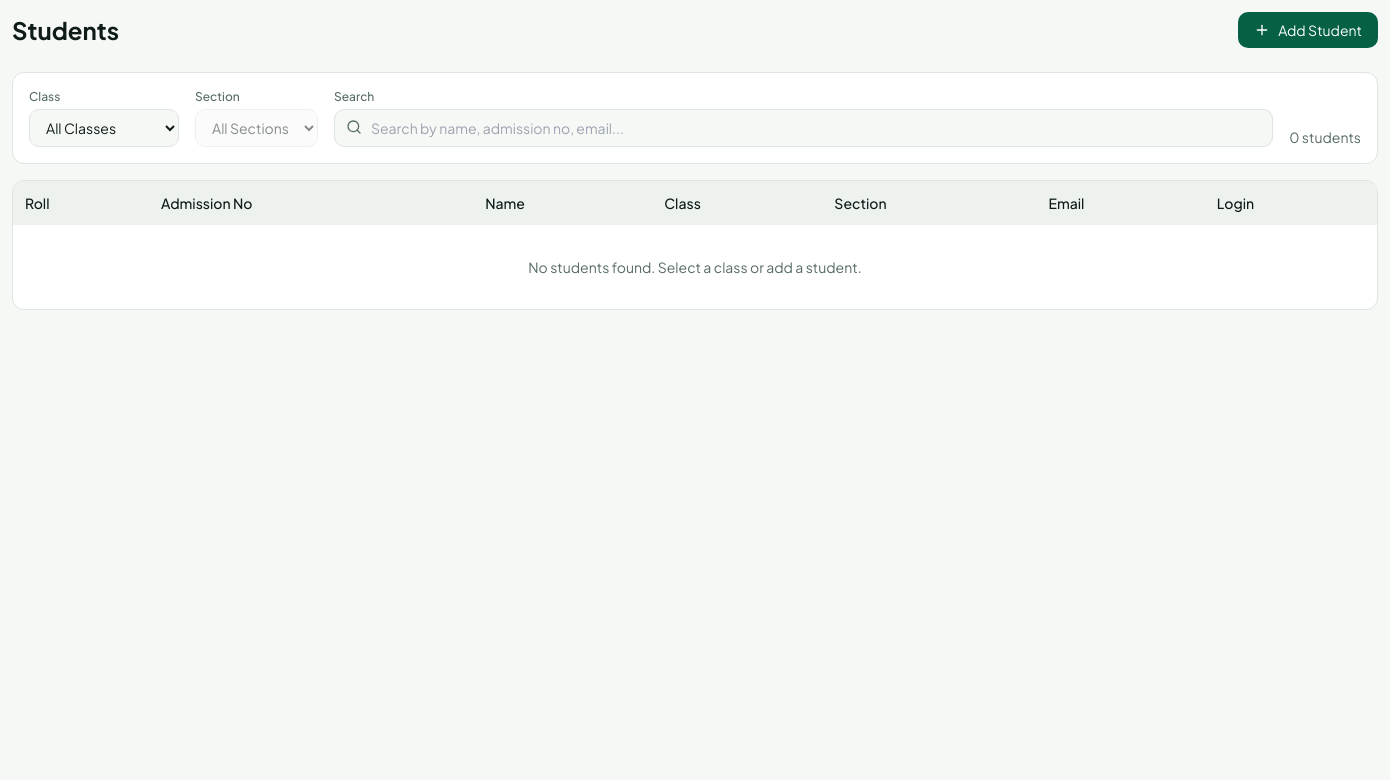
Scenario: student login links › shows the link right after a student is added
Click the button "Add Student": (1308, 30) x1=1238 y1=12 x2=1378 y2=48
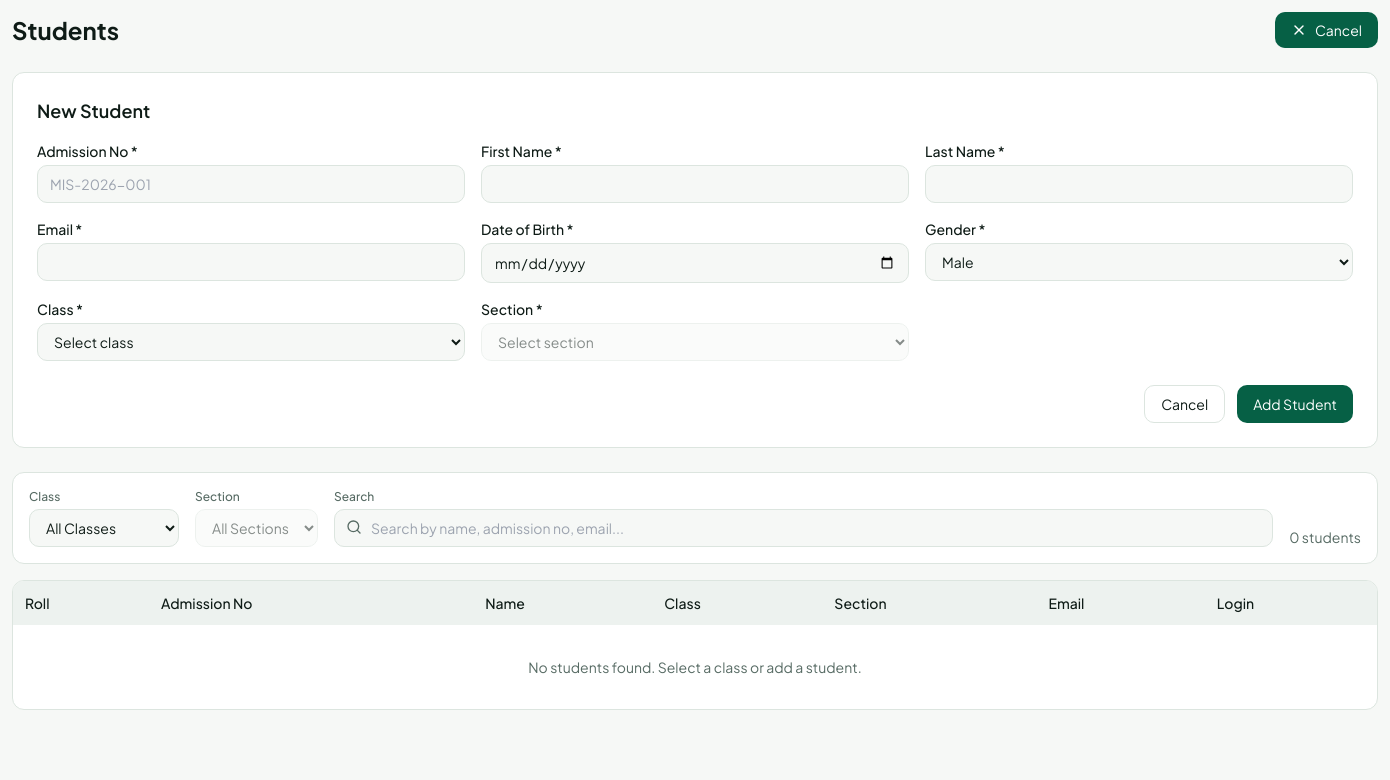
Submit the form, box x1=37 y1=141 x2=1353 y2=423
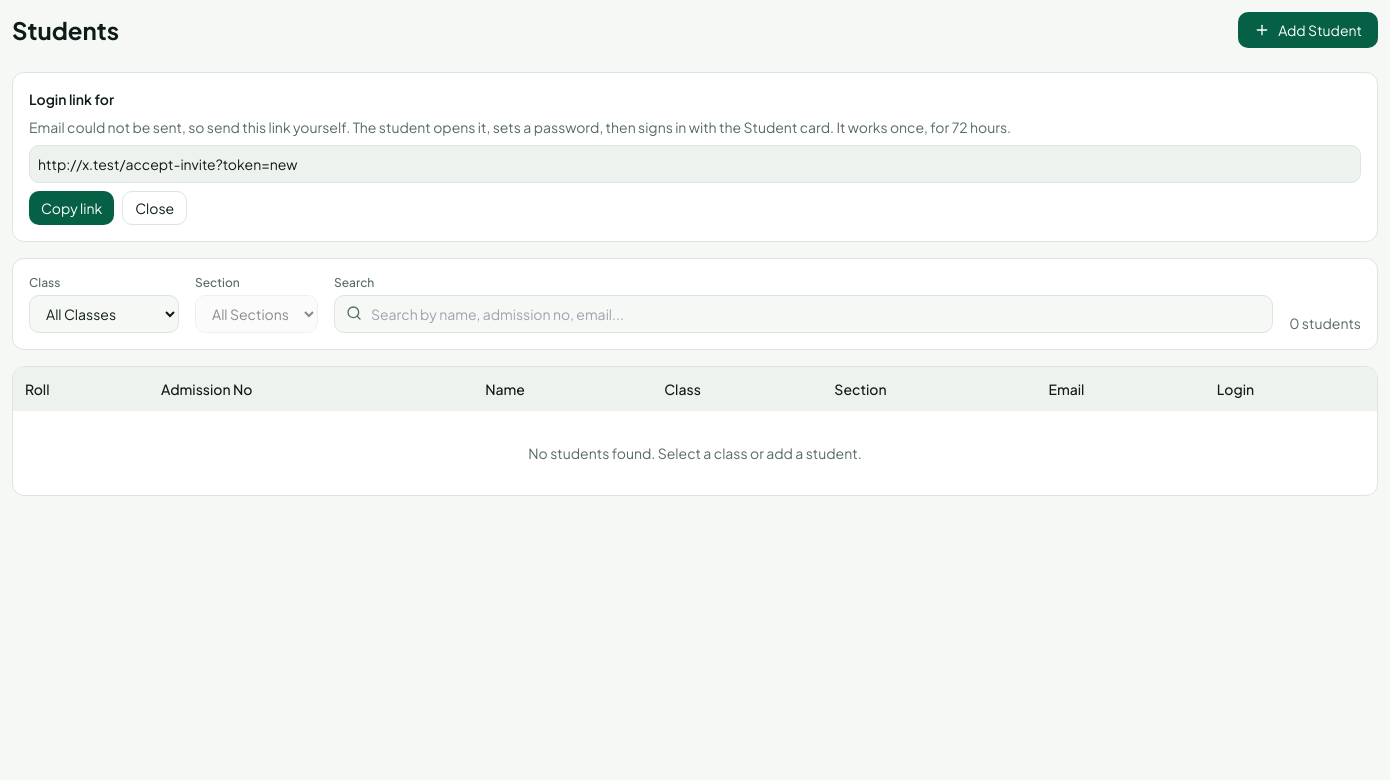
Check: the text "http://x.test/accept-invite?token=new" is shown, box x1=29 y1=145 x2=1361 y2=183
